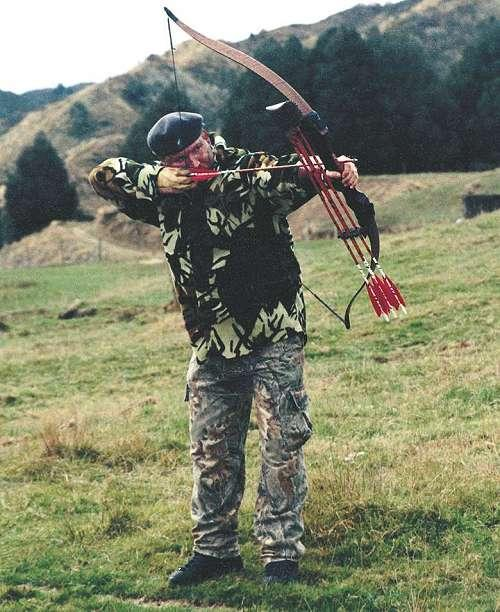person: (87, 107, 361, 587)
